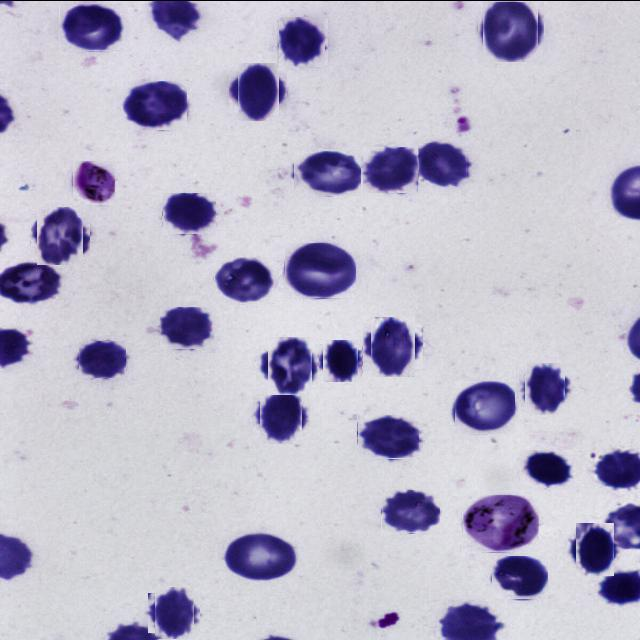difficult: (73, 160, 115, 204)
gametocyte: (462, 494, 539, 552)
red blood cell: (284, 242, 356, 298), (224, 533, 299, 581), (480, 0, 541, 59), (454, 380, 515, 434), (123, 80, 187, 129), (293, 150, 361, 196), (59, 3, 124, 50), (214, 256, 275, 303), (366, 319, 419, 372), (34, 208, 86, 262), (357, 414, 419, 458), (264, 339, 316, 390), (381, 489, 440, 533), (363, 146, 418, 192), (491, 555, 548, 599), (233, 66, 283, 116), (256, 390, 306, 439), (278, 16, 327, 66), (159, 306, 212, 349), (162, 192, 216, 234), (522, 364, 568, 412), (151, 589, 197, 635), (572, 526, 618, 572), (420, 142, 468, 185), (520, 449, 574, 487), (78, 340, 126, 378), (321, 341, 360, 380)
